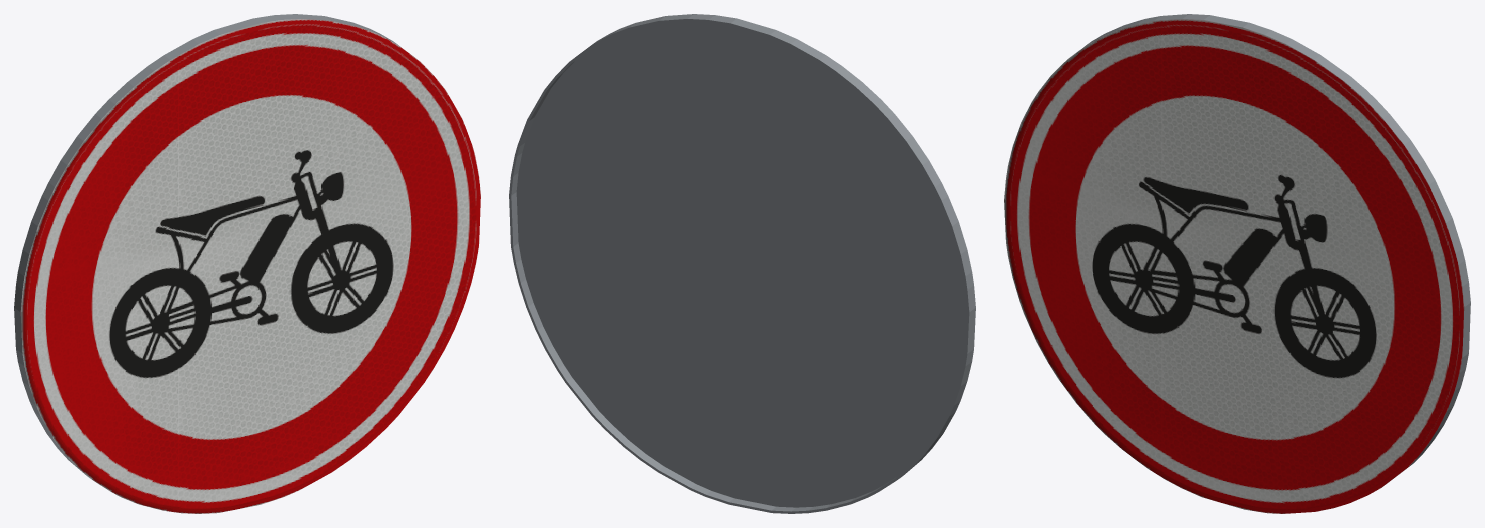
The picture shows the model from 3 angles, left to right: view 1: azimuth 30°, elevation 25°; view 2: azimuth 150°, elevation 25°; view 3: azimuth 330°, elevation 25°; orthographic projection.
Visible parts, largest first — view 1: cat_1b9f4b0652ad383d; view 2: cat_1b9f4b0652ad383d; view 3: cat_1b9f4b0652ad383d.
Boxes of the visible parts, x1,y1,x2,y2 form: cat_1b9f4b0652ad383d: (14,14,480,513); cat_1b9f4b0652ad383d: (509,14,975,513); cat_1b9f4b0652ad383d: (1004,14,1470,513).
Bounding box in the file's own units: 0.6 × 0.015 × 0.6.
Materials: 2 (1 with a texture image).
